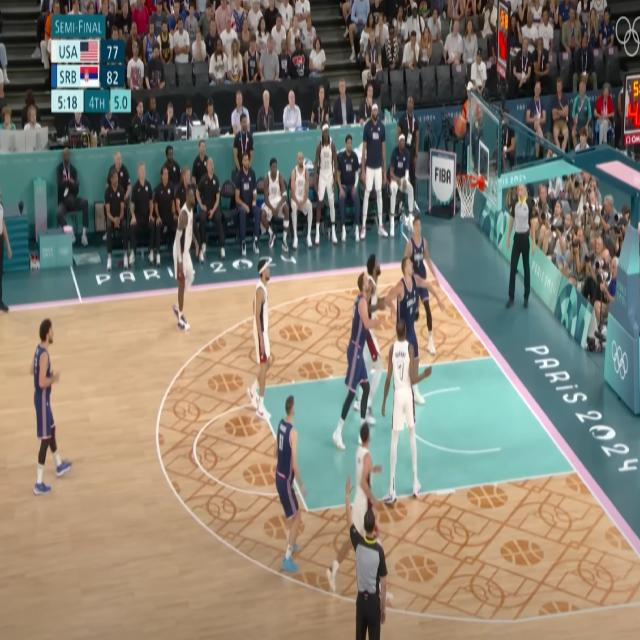basketball: (453, 116, 466, 137)
hoop: (453, 168, 482, 221)
